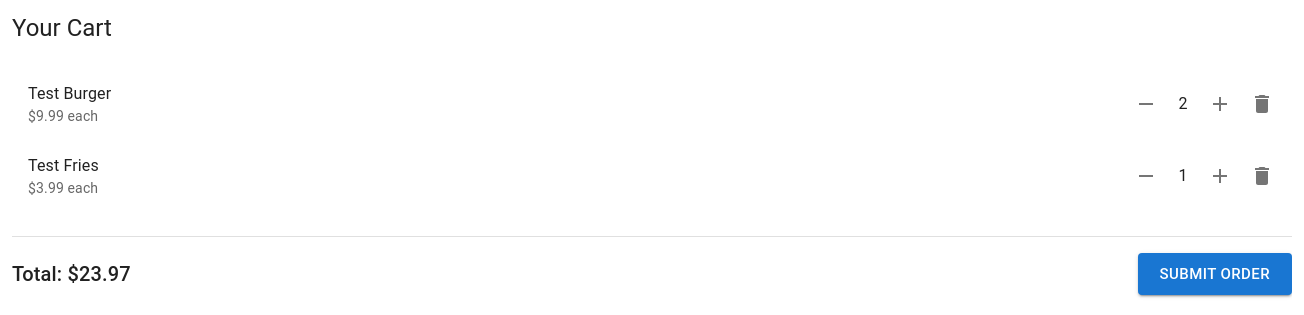
Test: Cart › should decrement quantity when clicking decrease button
Click the button named "decrease test burger" at (1146, 104), box [1129,87,1163,121]
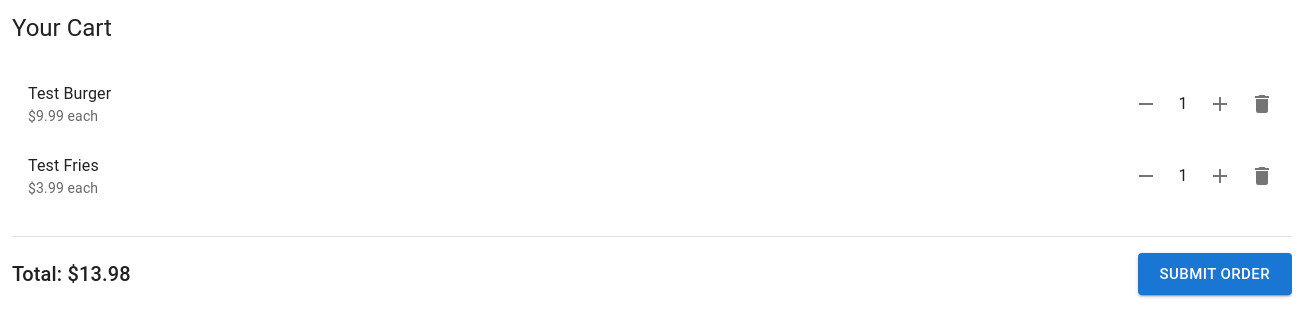
expect the heading "Total: $13.98" is shown: met, box [12,258,131,290]
expect the text "2" is gone: met
